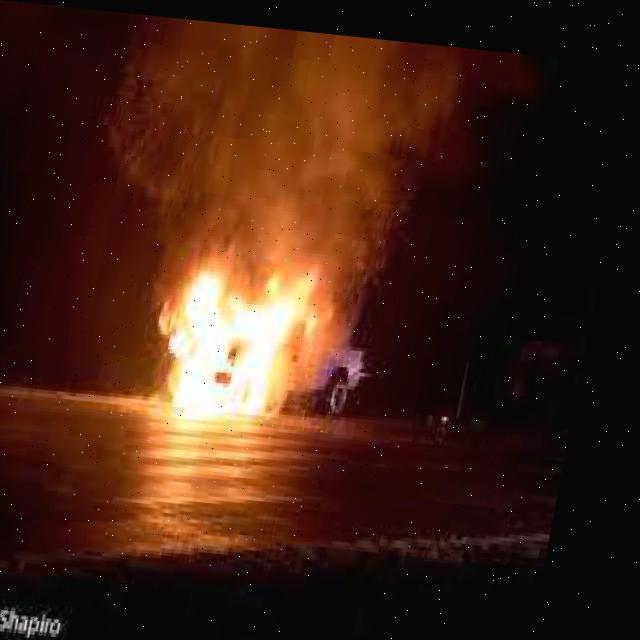Fire: (151, 206, 374, 418)
